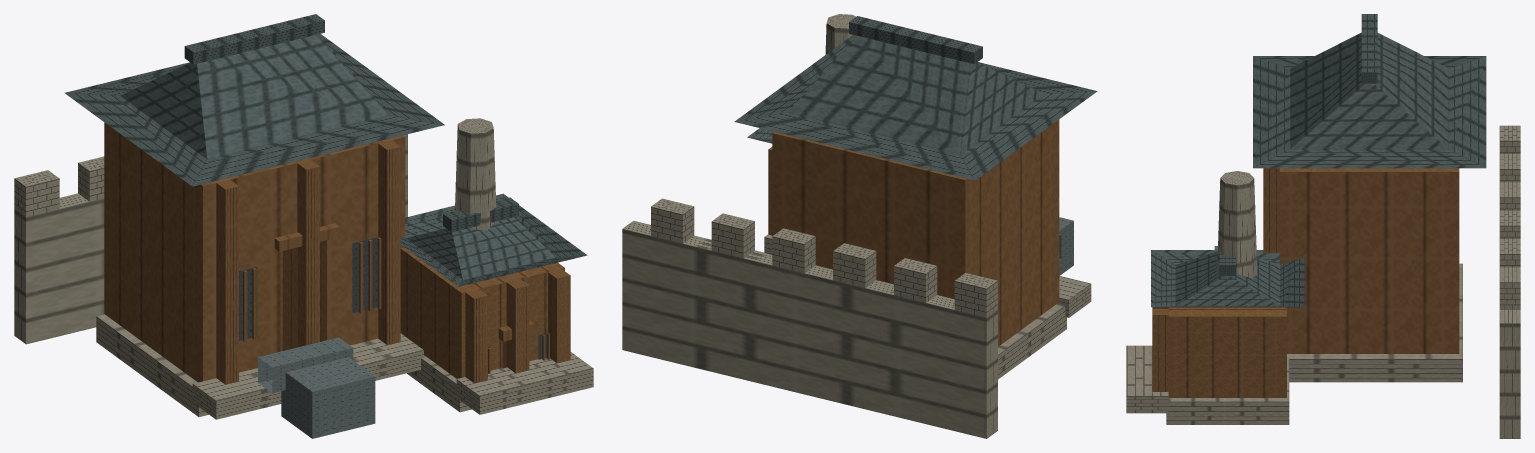
Rendered from domestic-SMITH-3-lod0.glb.
The picture shows the model from 3 angles, left to right: view 1: azimuth 30°, elevation 25°; view 2: azimuth 150°, elevation 25°; view 3: azimuth 270°, elevation 25°; orthographic projection. The views are drawn at different scales.
Size of the model in its own units: 0.85 by 0.691 by 0.835.
Materials: 1 (1 with a texture image).
